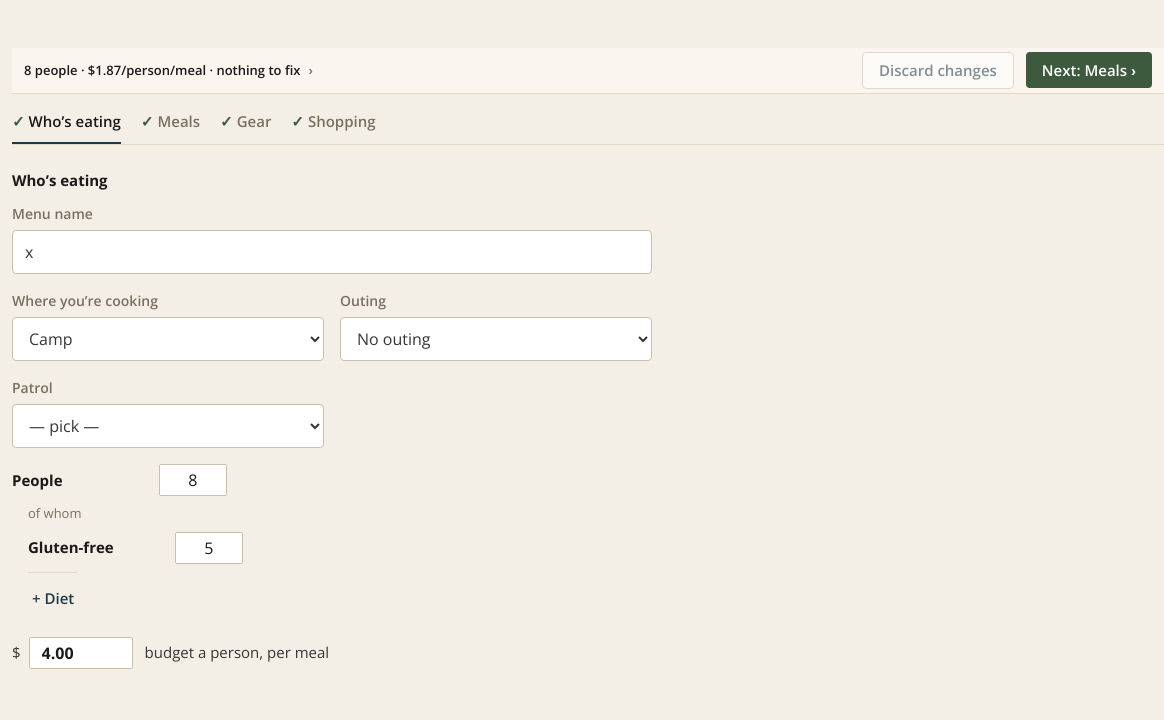
Test: PeopleTab — Who’s eating on its own screen › Save_FocusesTheNameField_WhenTheNameIsEmpty
This screenshot has width=1164, height=720.
Clear the field labelled "Menu name" at (332, 252), box [12, 230, 652, 274]
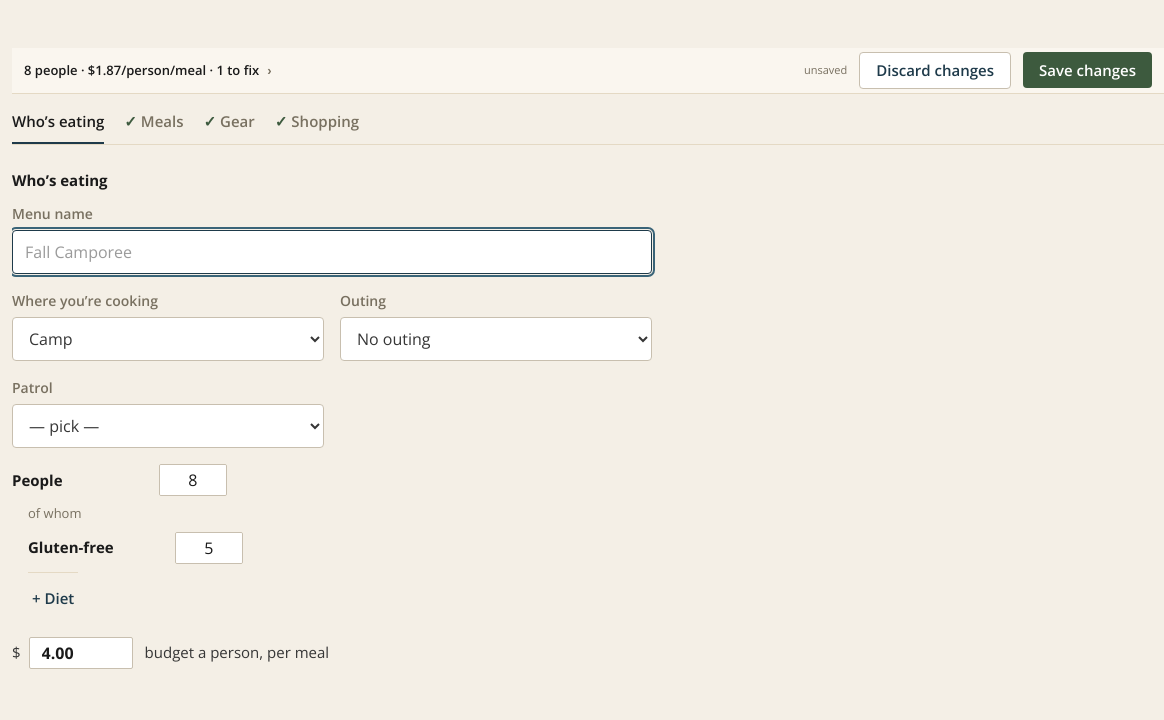
Click the button "Save changes" at (1088, 70), box [1023, 52, 1152, 88]
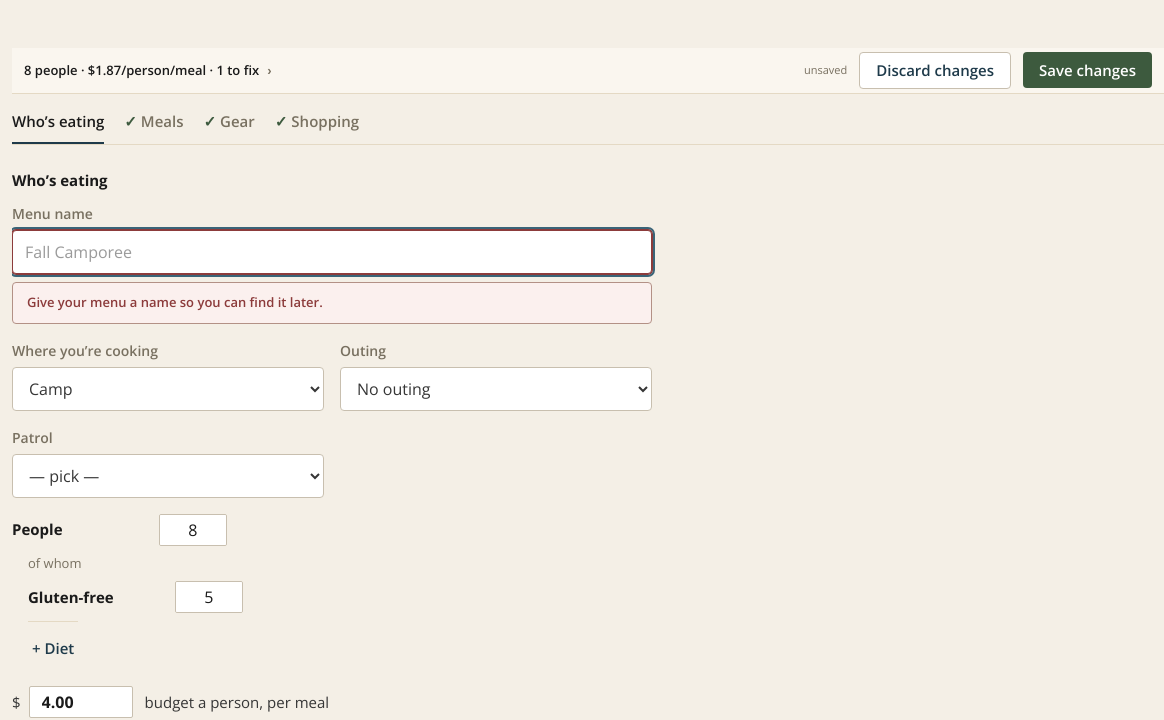
Result: the message shows "Give your menu a name" at [27, 293, 323, 311]
